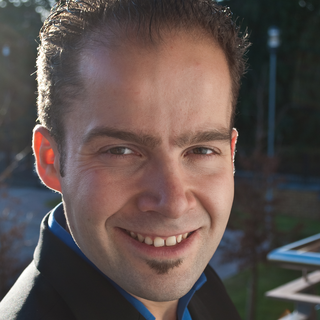eye: (94, 140, 144, 163), (181, 140, 224, 165)
